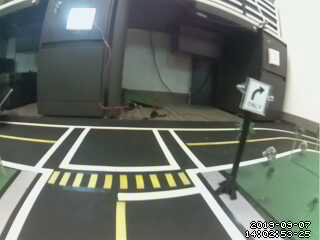Right_only_sign: (242, 77, 270, 122)
